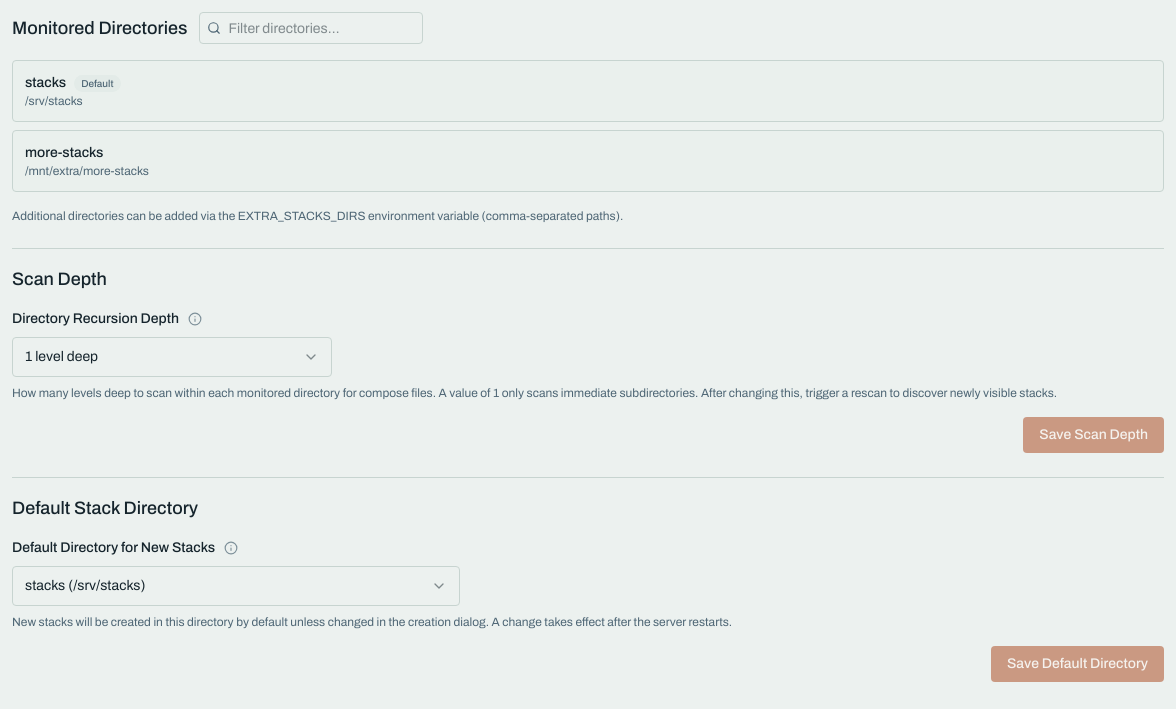
it: DirectoriesSettingsContent — the default directory is a boot-time setting (agent-os-a1ye.6) › refetches the setting after a save so the pending value appears
The width and height of the screenshot is (1176, 709).
Click the dropdown named "Default Directory for New Stacks" at (45, 586), box [12,566,460,606]
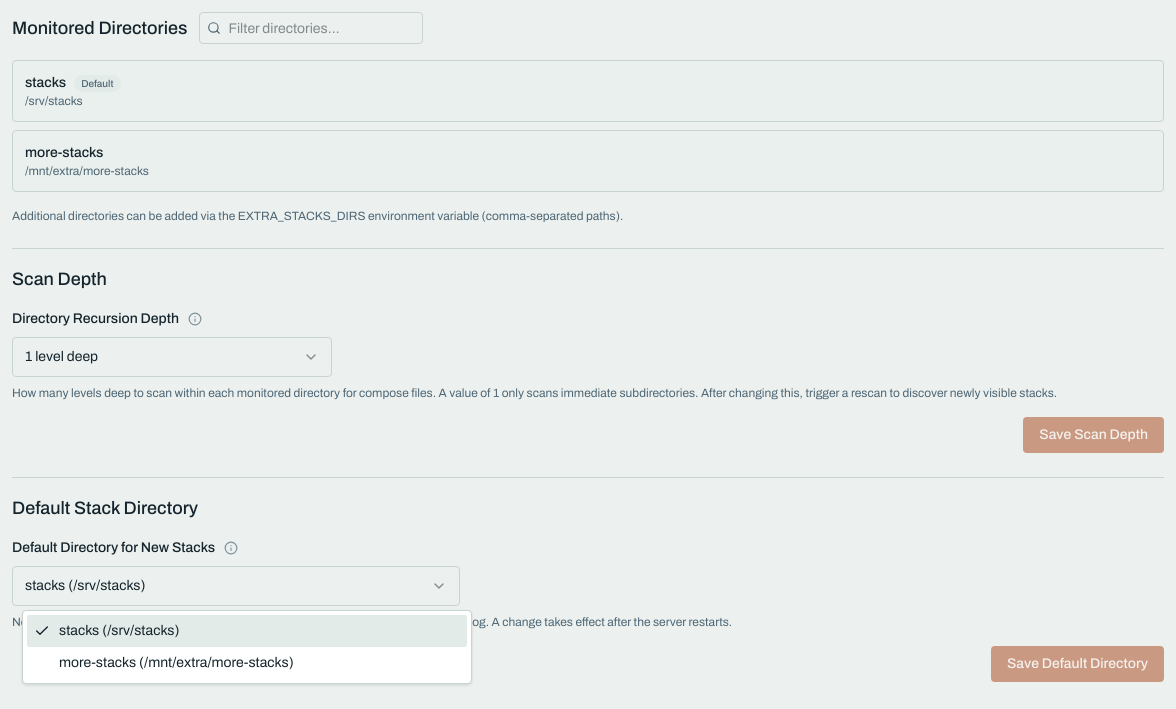
Click the option "more-stacks (/mnt/extra/more-stacks)" at (176, 662), box [59,655,294,670]
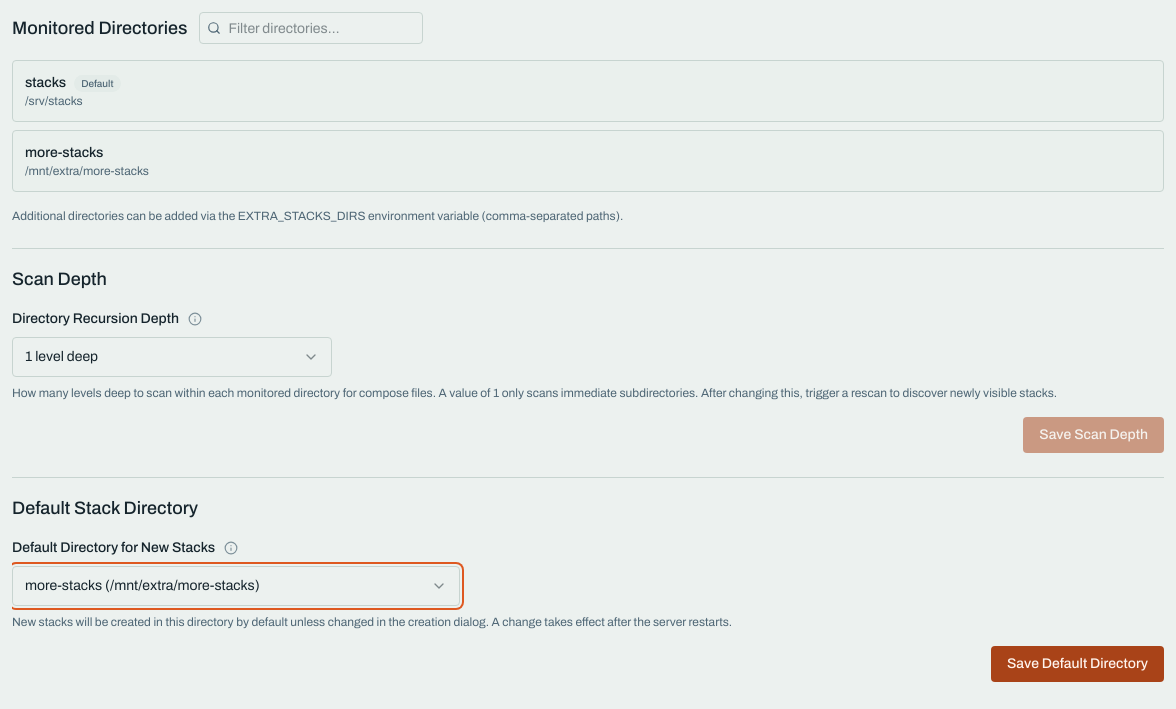
Click the button "Save Default Directory" at (1077, 664), box [991,646,1164,682]
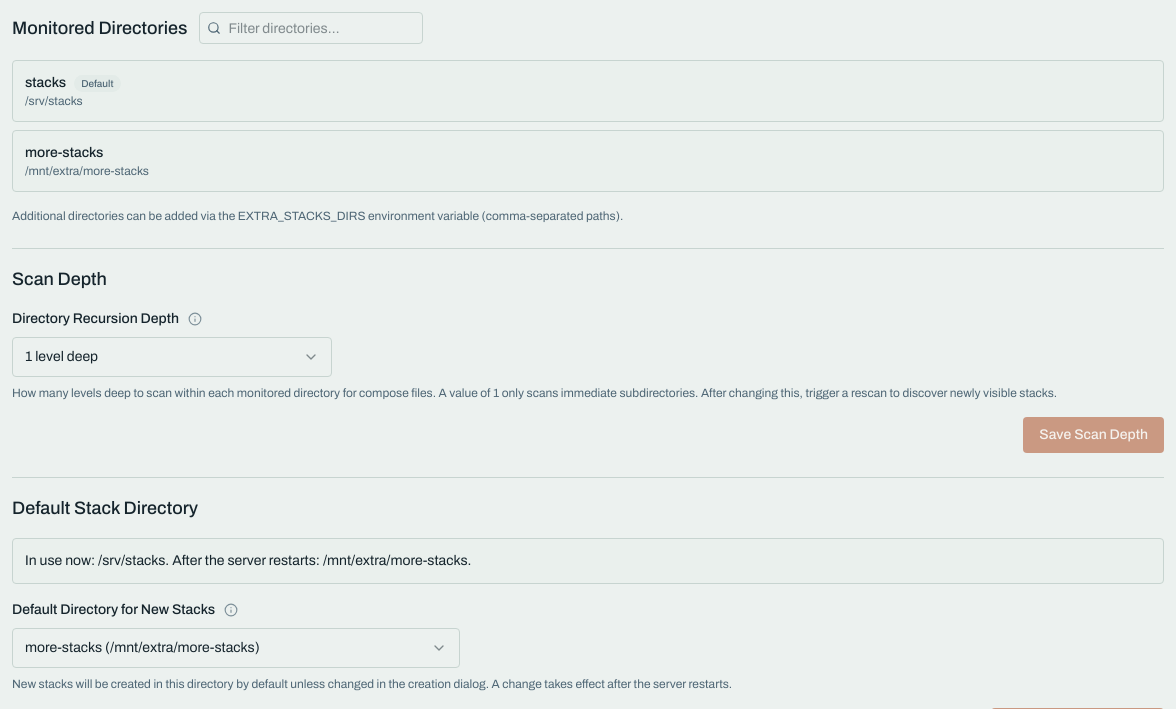
Expected: the text with test id "default-dir-pending" shows "After the server restarts: /mnt/extra/more-stacks.", [12,538,1164,584]
